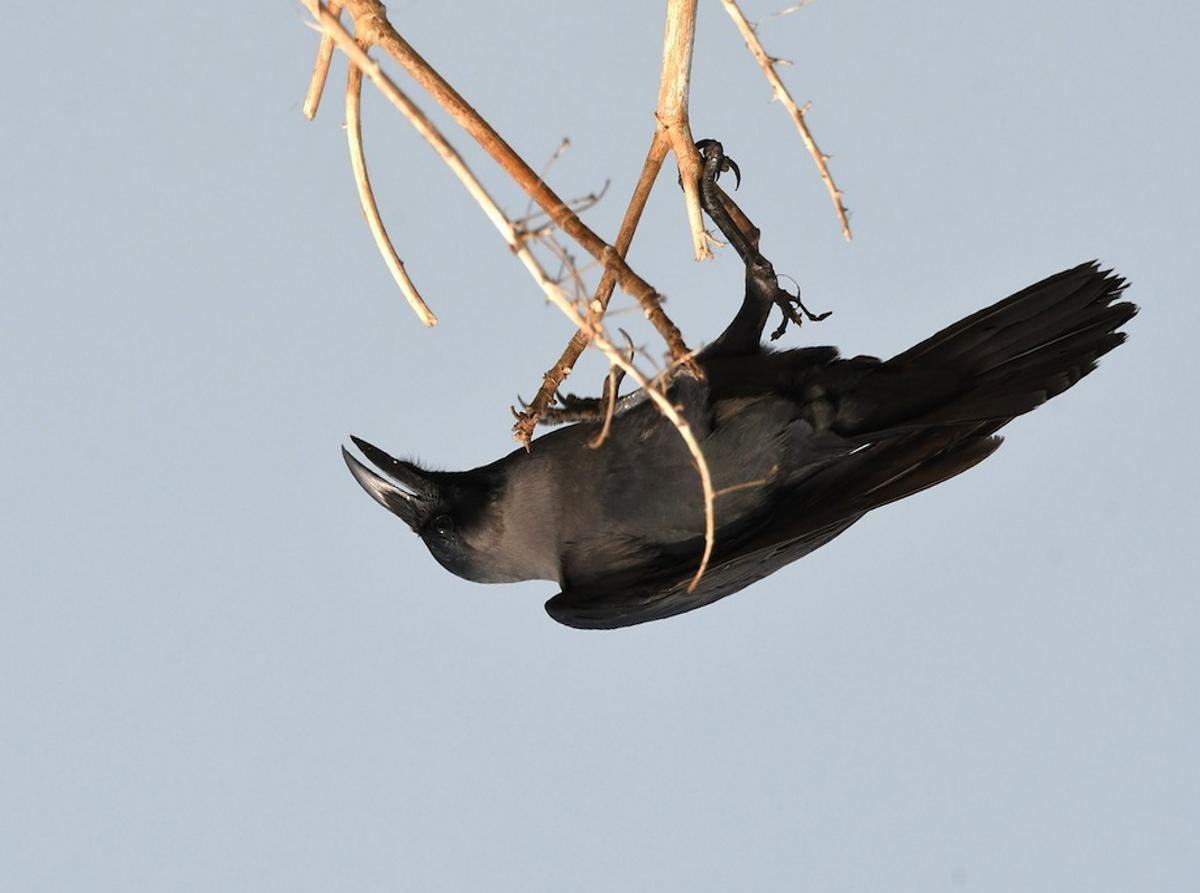crow: (332, 183, 1161, 598)
